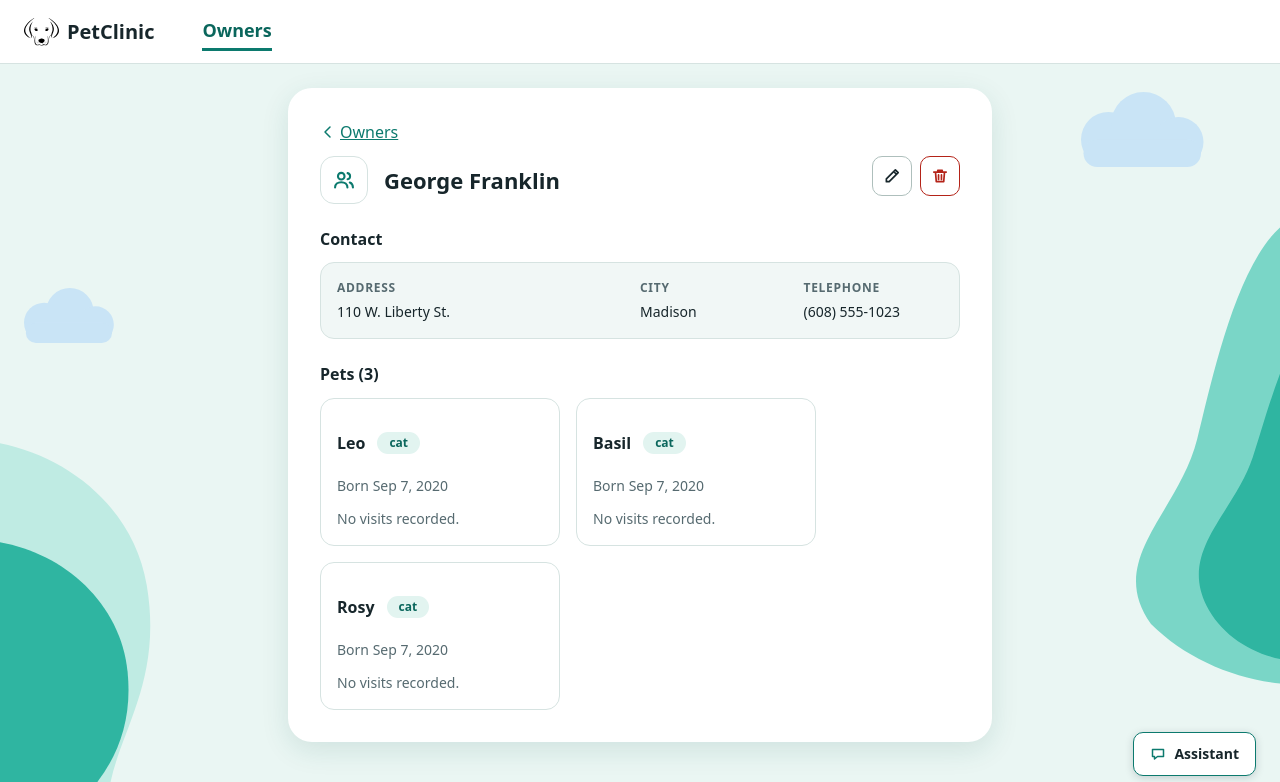
Test: deleting an owner › keeps the dialog open and shows the error when the delete fails
Click the button named "Delete owner" at {"x": 940, "y": 176}, box [920,156,960,196]
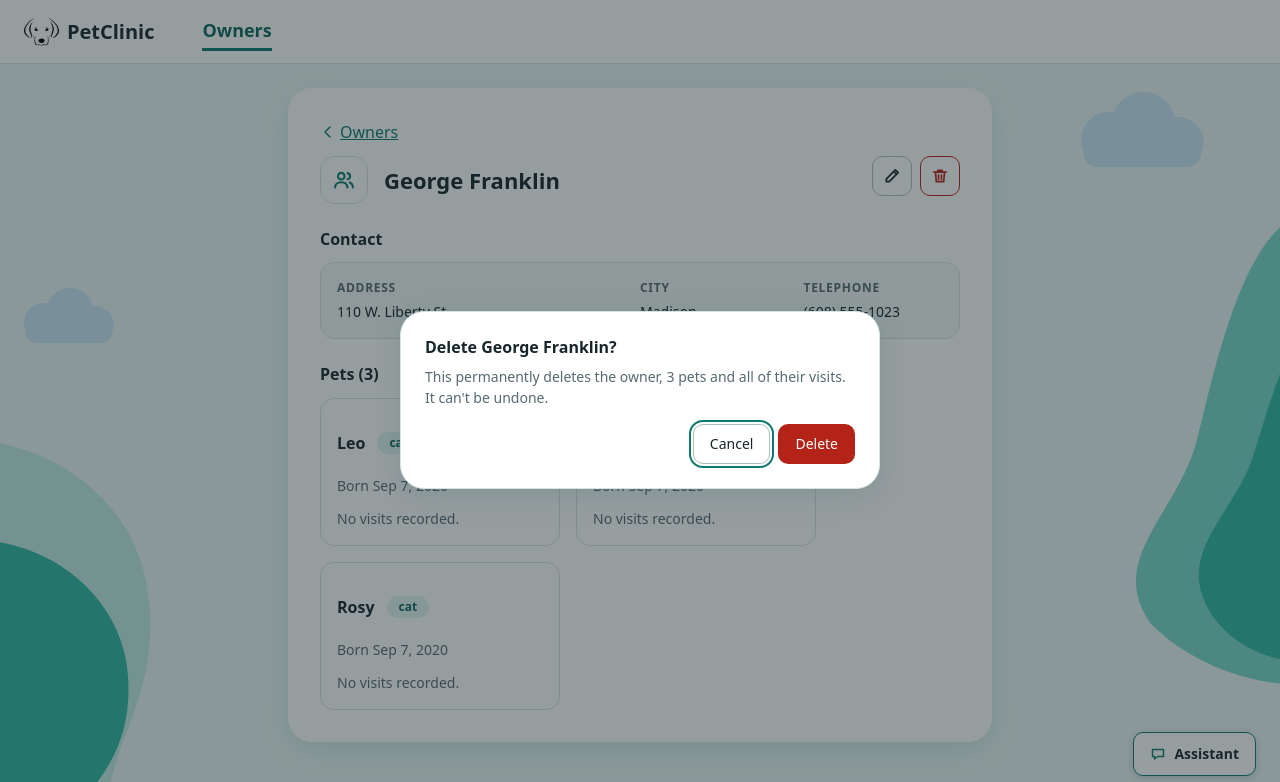
Click the button "Delete" at {"x": 817, "y": 444}, box [778,424,855,464]
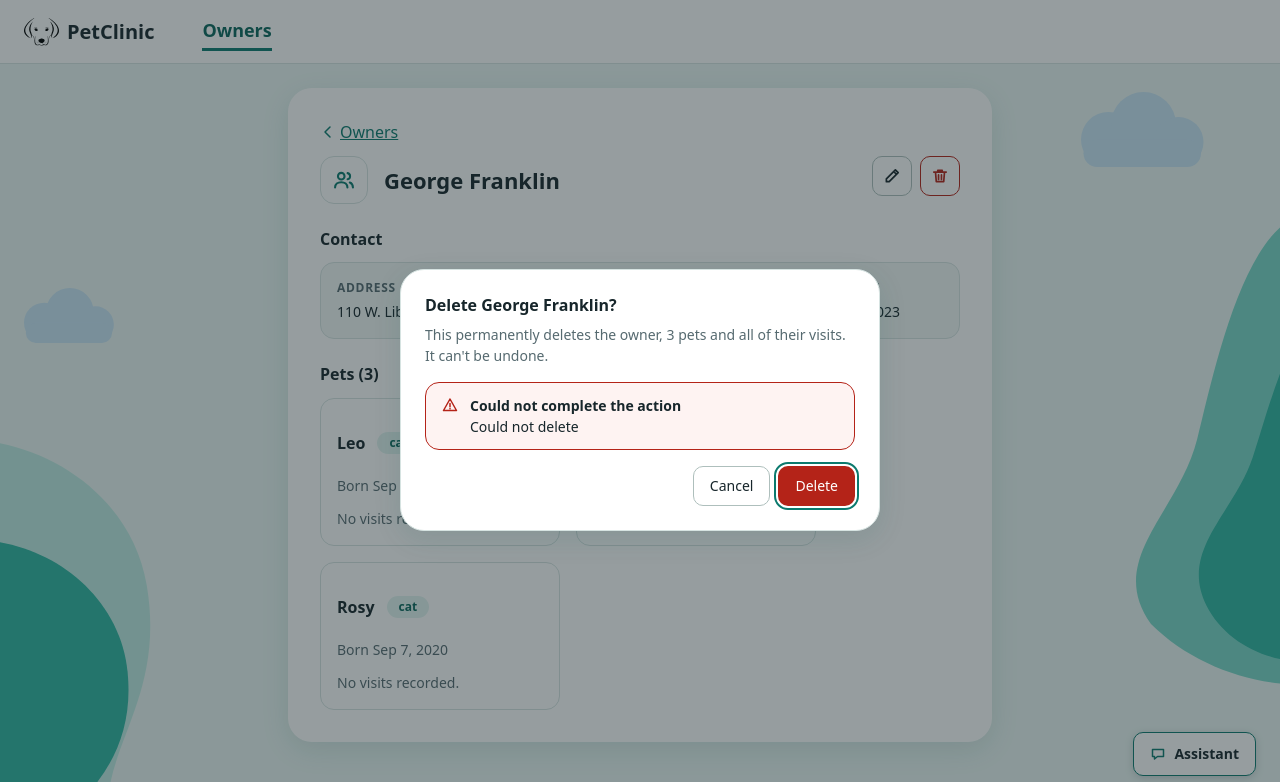
expect the dialog is shown: met, box [400,269,880,531]
expect the button "Delete" is enabled: met, box [778,466,855,506]
expect the message shows "Could not delete": met, box [470,417,579,436]
